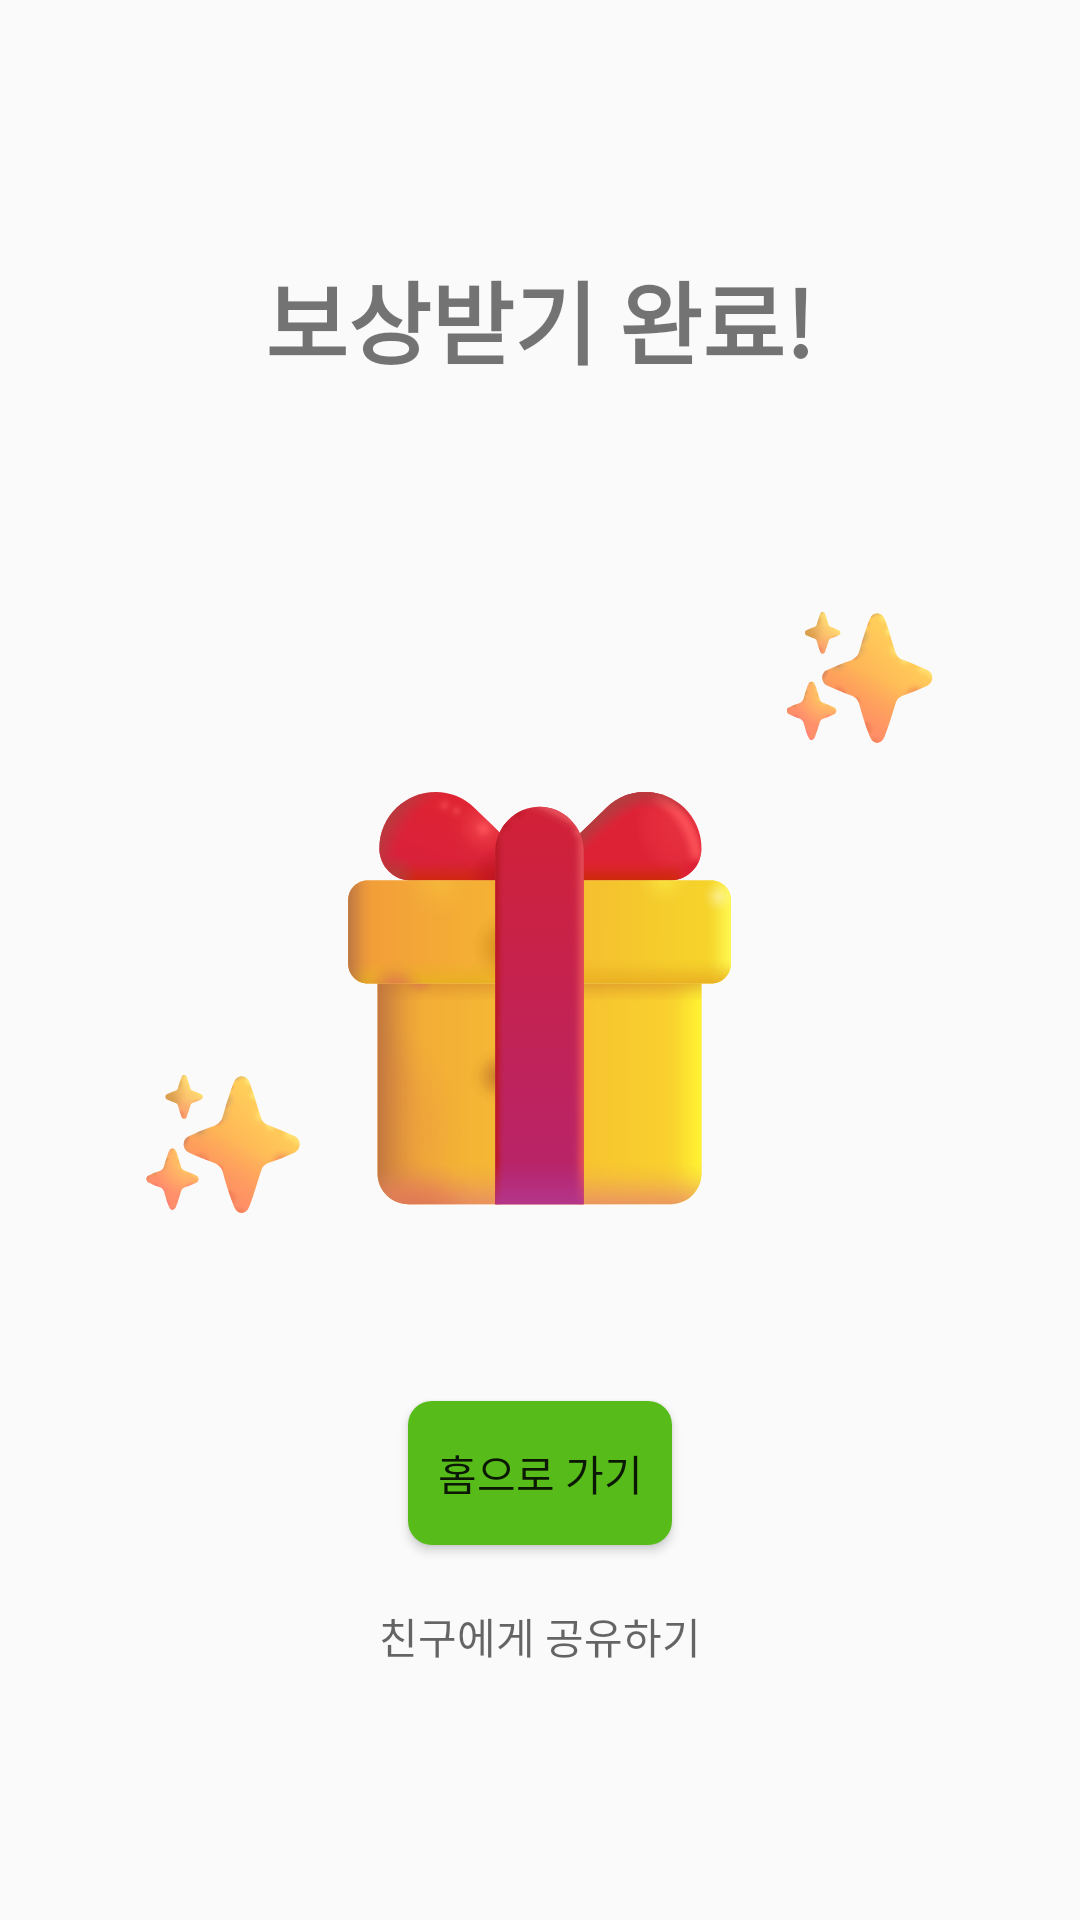

Where icons sit on this 1080 × 1920 app screen, as (x1, y1, x2, y2):
sparkles: (787, 612, 933, 743), (146, 1075, 300, 1213)
